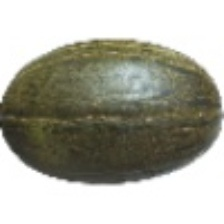honeydew: (14, 43, 207, 210)
